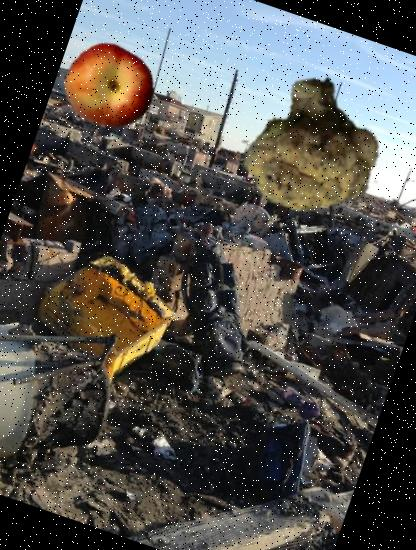Cauliflower: (219, 55, 399, 235)
Nectarine: (51, 27, 168, 144)
